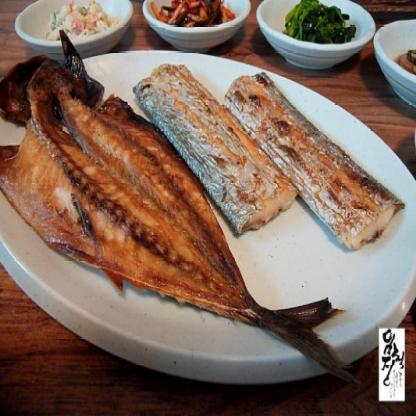Peixe: (1, 46, 130, 284), (202, 270, 342, 364), (132, 124, 160, 290), (162, 144, 182, 297), (186, 174, 209, 302), (211, 227, 240, 320), (201, 196, 217, 310), (185, 172, 198, 302)
